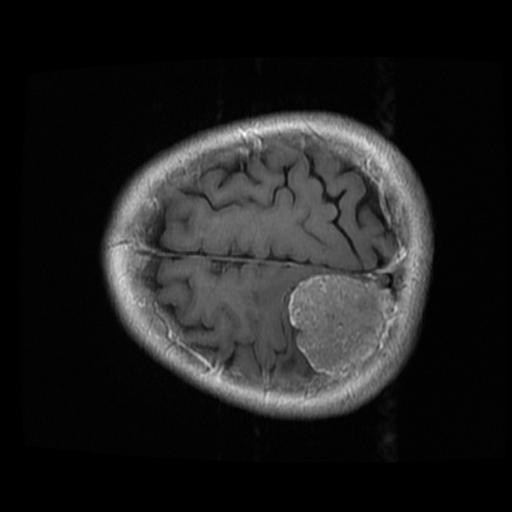meningioma: (287, 274, 395, 375)
